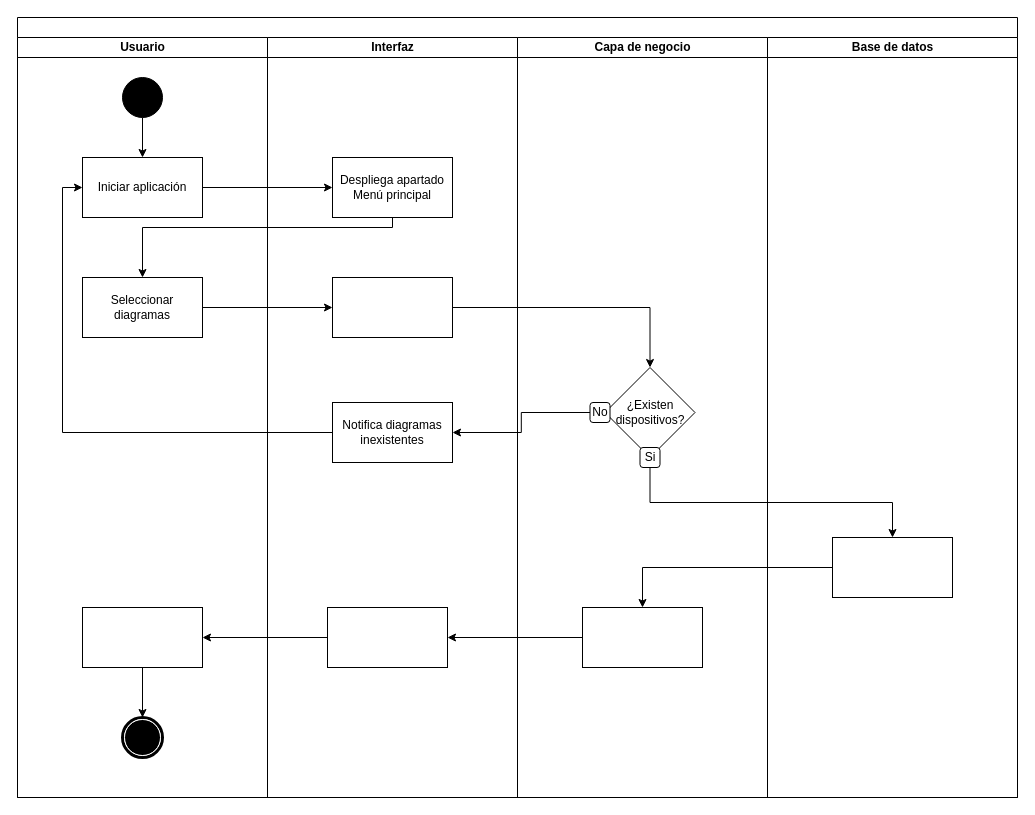
This 1035x815 diagram has some shape labels left out. Here are the shapes that lost their labels. From the top down, the centre of each, then its label:
At point 392,307: "Despliega apartado de diagrama".
At point 892,567: "Trae datos guardados de dispositivos".
At point 142,637: "Visualiza diagramas".
At point 387,637: "Despliega diagramas".
At point 642,637: "Captura los datos".
